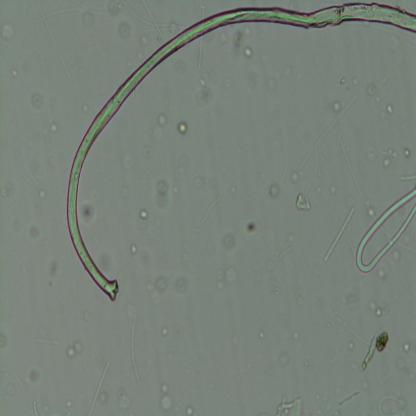Background material: (361, 329, 390, 373), (245, 69, 285, 97), (276, 392, 306, 416), (193, 76, 216, 106), (213, 264, 238, 289), (94, 244, 114, 272), (220, 221, 239, 249), (144, 275, 168, 296), (158, 382, 174, 413), (340, 289, 360, 313), (380, 144, 400, 166), (155, 181, 170, 209), (79, 202, 96, 226), (337, 388, 359, 406), (368, 298, 390, 316), (26, 365, 42, 389), (116, 387, 132, 410), (47, 257, 60, 285), (233, 27, 250, 46), (0, 21, 17, 40), (296, 193, 312, 212), (244, 218, 260, 236), (65, 342, 84, 357), (30, 88, 44, 108), (268, 280, 281, 300), (278, 351, 292, 369), (119, 22, 133, 40), (263, 253, 275, 273), (155, 323, 170, 338), (28, 222, 40, 240), (330, 99, 345, 113), (269, 182, 281, 199), (176, 274, 186, 294), (242, 44, 255, 59), (401, 338, 413, 354), (366, 82, 377, 99), (286, 230, 294, 253), (390, 247, 402, 262), (158, 112, 168, 129), (176, 122, 188, 135), (294, 292, 303, 309), (0, 332, 8, 350), (139, 209, 150, 222), (376, 267, 387, 280), (366, 206, 376, 220), (402, 146, 412, 159), (143, 146, 152, 159), (32, 398, 39, 414), (348, 340, 357, 352), (80, 101, 89, 113), (130, 242, 137, 257), (291, 169, 299, 182), (329, 185, 337, 198), (194, 179, 204, 189), (50, 122, 59, 133), (341, 76, 349, 88), (38, 190, 47, 200), (387, 103, 394, 115), (293, 331, 300, 343), (11, 69, 20, 78)
Glass filter fibre: (355, 189, 416, 272), (299, 90, 358, 170), (332, 121, 377, 222), (35, 0, 72, 79), (324, 207, 354, 263), (34, 4, 112, 23), (88, 361, 111, 415), (144, 1, 166, 43), (200, 193, 224, 227), (130, 313, 141, 386), (376, 394, 400, 415), (198, 34, 206, 72), (399, 173, 416, 183), (199, 4, 206, 21)
Microfibre: (65, 1, 416, 302)
